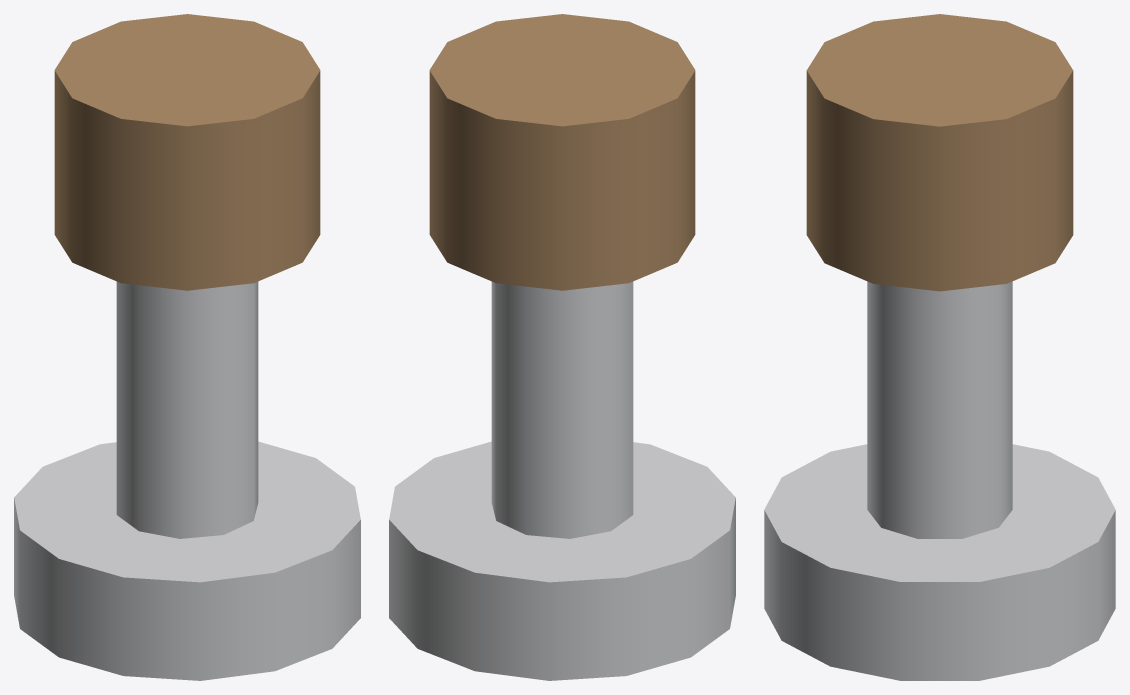
Rendered from Tamper.glb.
3 renders of one model, left to right at view 1: azimuth 30°, elevation 25°; view 2: azimuth 150°, elevation 25°; view 3: azimuth 270°, elevation 25°, orthographic.
Visible parts, largest first — view 1: Tamper; view 2: Tamper; view 3: Tamper.
Part boxes in pixels (bbox=[...]): Tamper: bbox=[14, 14, 360, 680]; Tamper: bbox=[389, 14, 735, 680]; Tamper: bbox=[764, 14, 1115, 680].
Size of the model in its own units: 0.0565 by 0.098 by 0.058.
